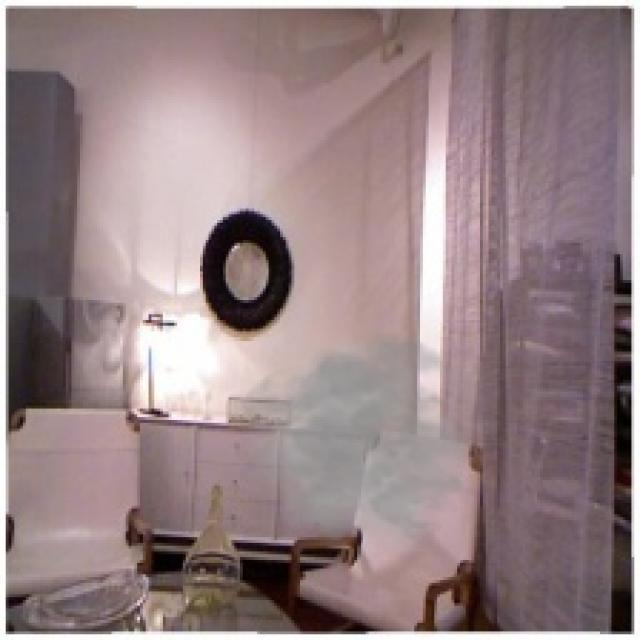Smoke: (235, 317, 480, 552)
